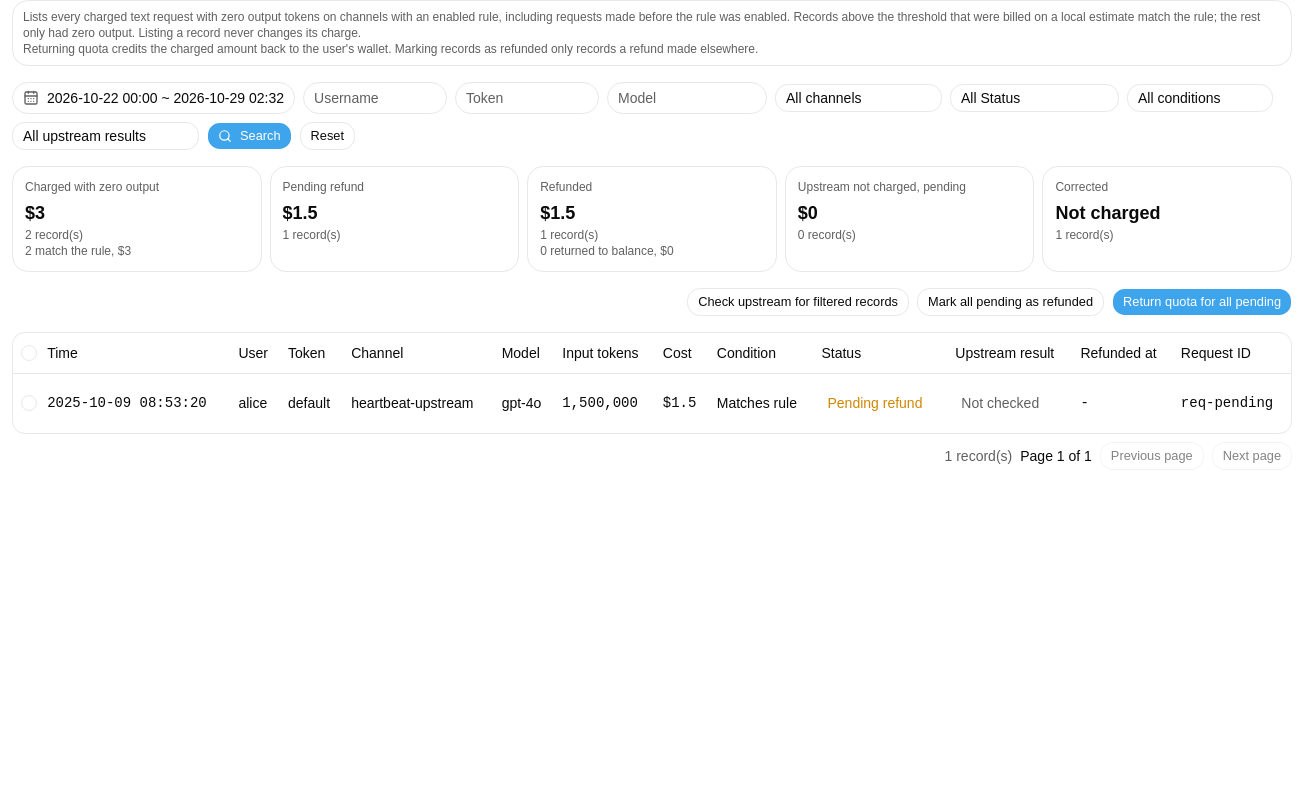
Test: billing correction records panel › checking every filtered record sends the filters and says when more are left
Expected: the text "alice" is shown, top-left (238, 393), bottom-right (272, 413)
Click the button "Check upstream for filtered records": (798, 302) top-left (687, 288), bottom-right (909, 316)
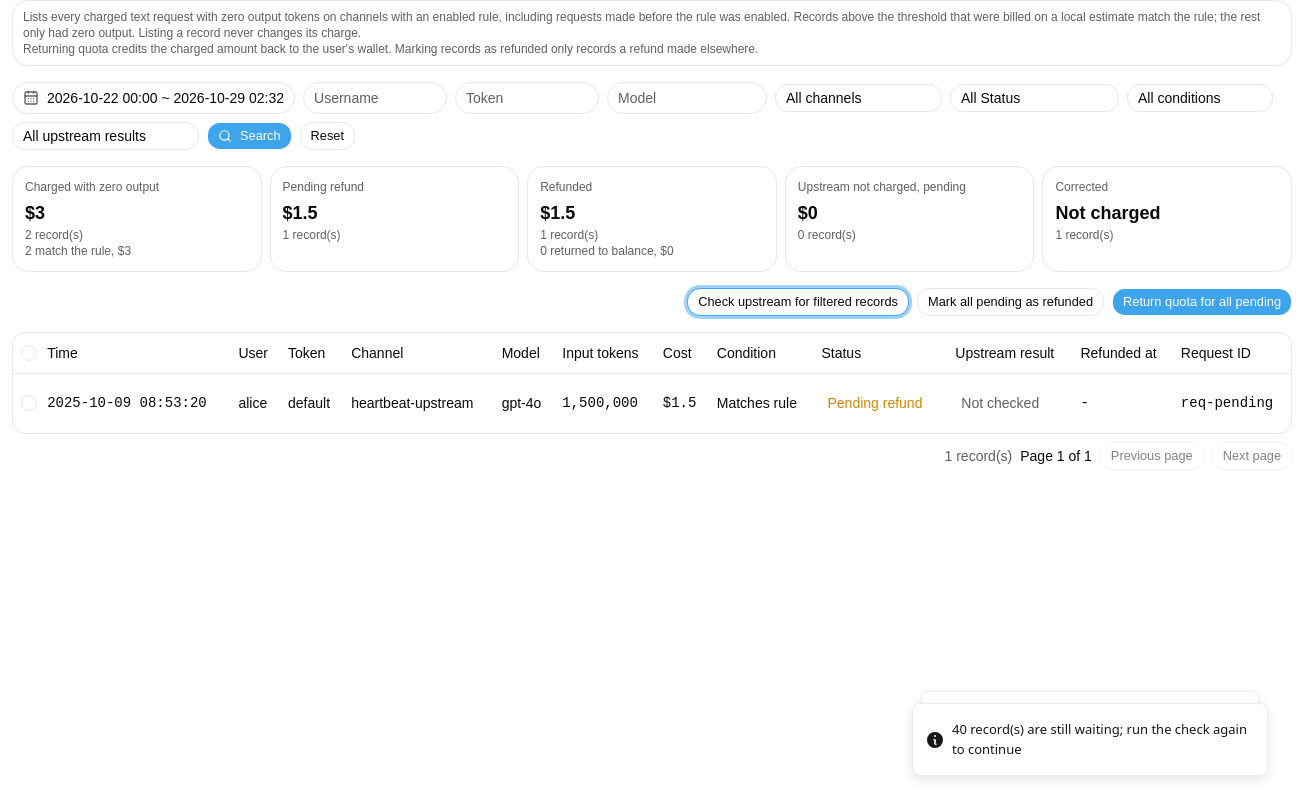
Expected: the text "40 record(s) are still waiting; run the check again to continue" is shown, top-left (952, 720), bottom-right (1251, 759)
